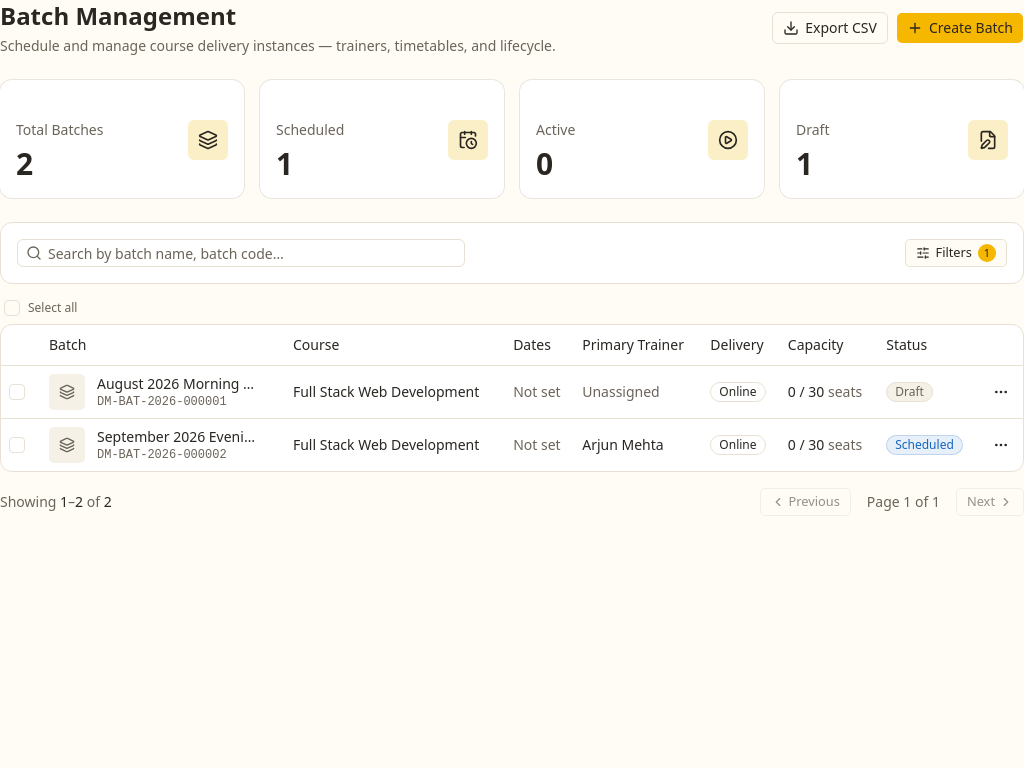
it: BatchesPage › cancels a scheduled batch via the row action menu after confirmation, then archives it
expect the text "September 2026 Evening Batch" is shown: met, box [97,426,257,446]
Step 1. Click the button named "actions for september 2026 evening batch" → (1001, 444), box [987,430,1015,458]
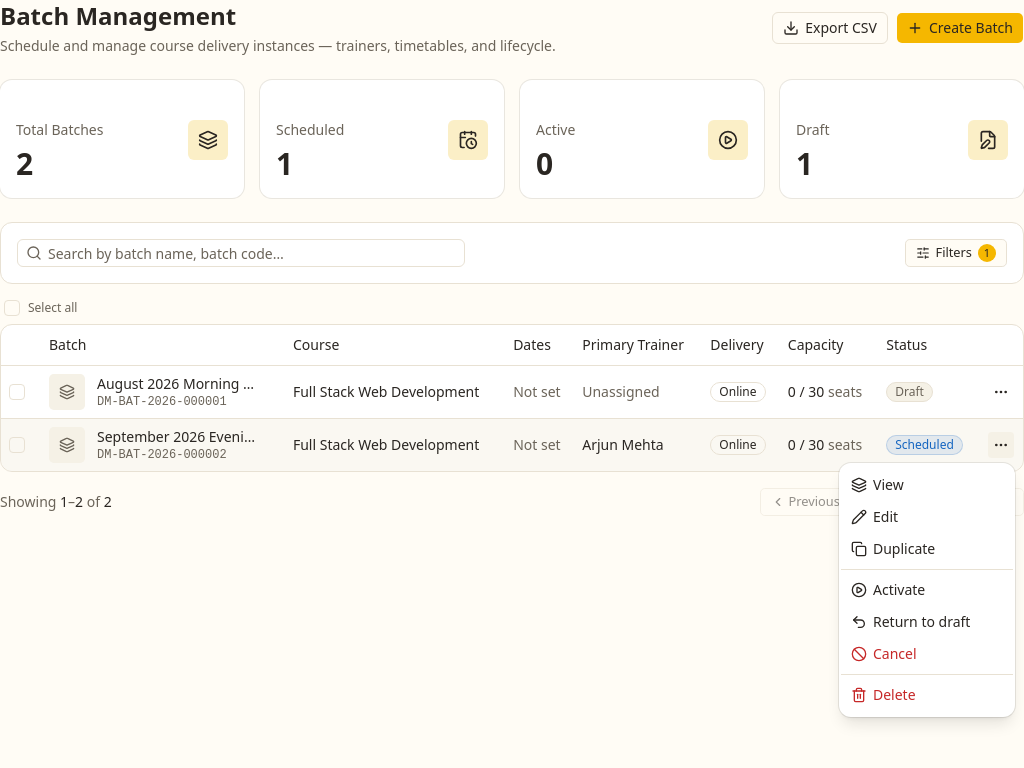
Step 2. Click the menu item "Cancel" → (884, 654), box [851,644,917,663]
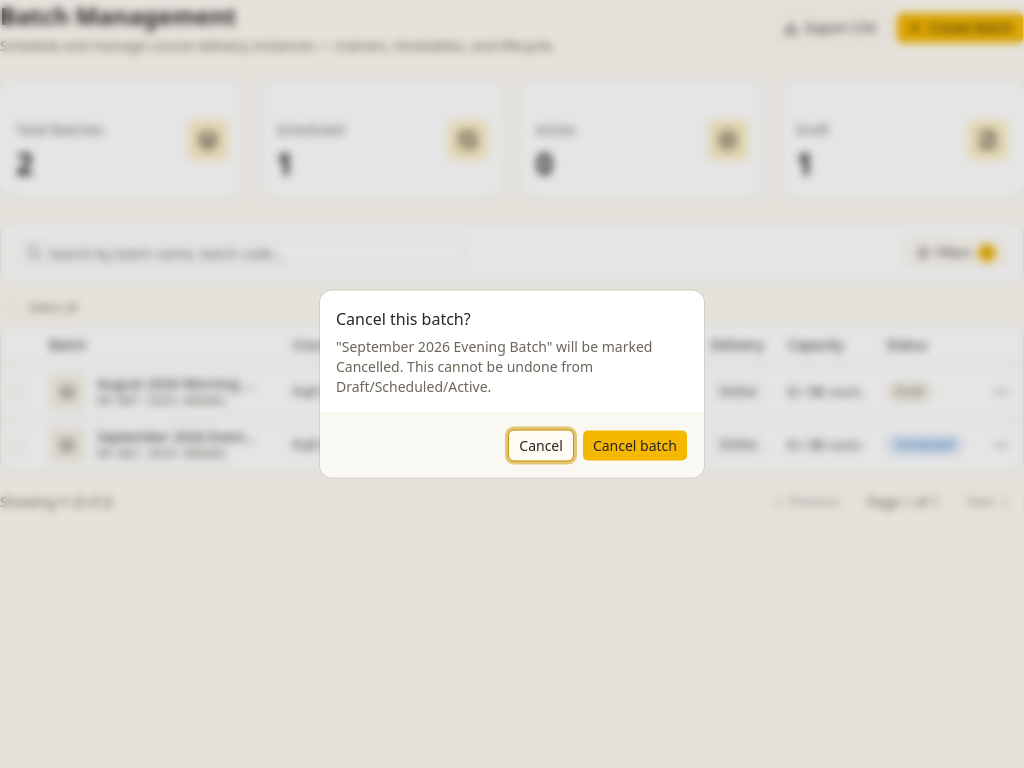
Step 3. Click the button "Cancel batch" → (635, 446), box [582,430,688,462]
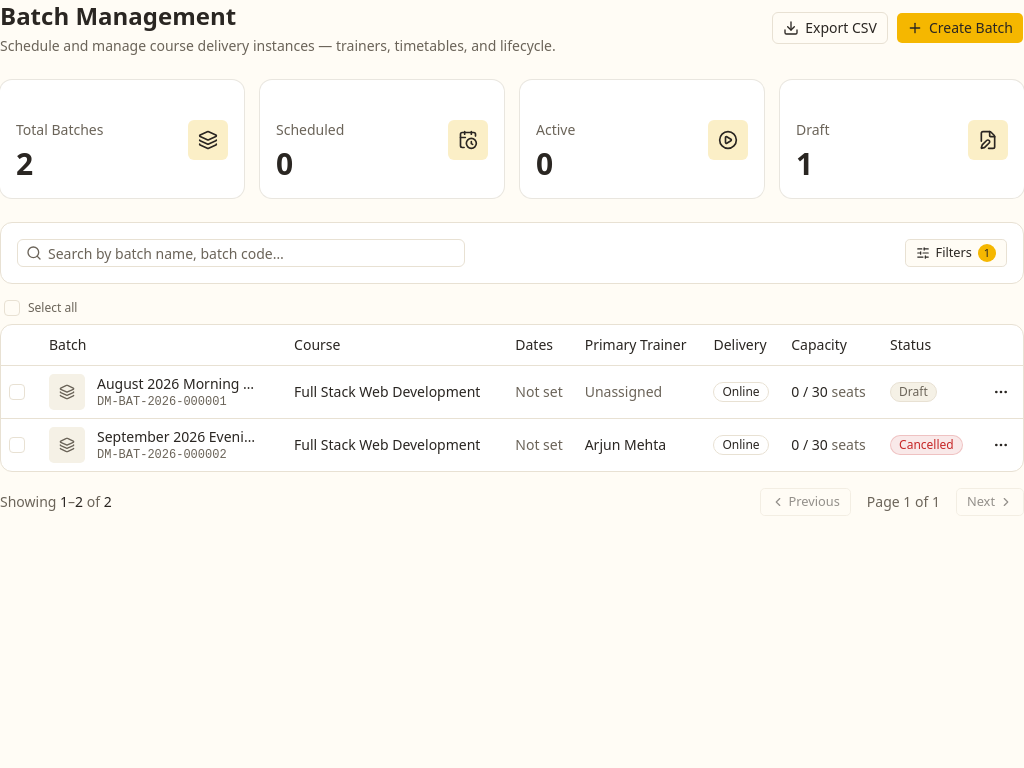
expect the text "Cancelled" is shown: met, box [890,435,963,455]
Step 4. Click the button named "actions for september 2026 evening batch" → (1001, 444), box [987,430,1015,458]
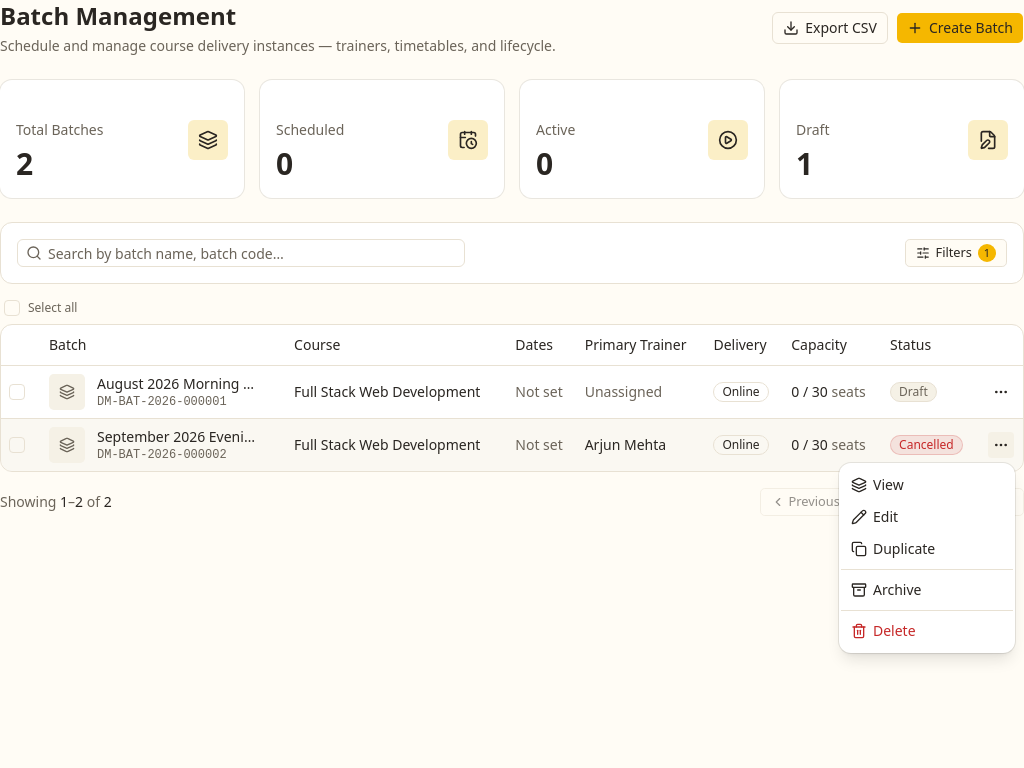
Step 5. Click the menu item "Archive" → (886, 590), box [851,580,922,599]
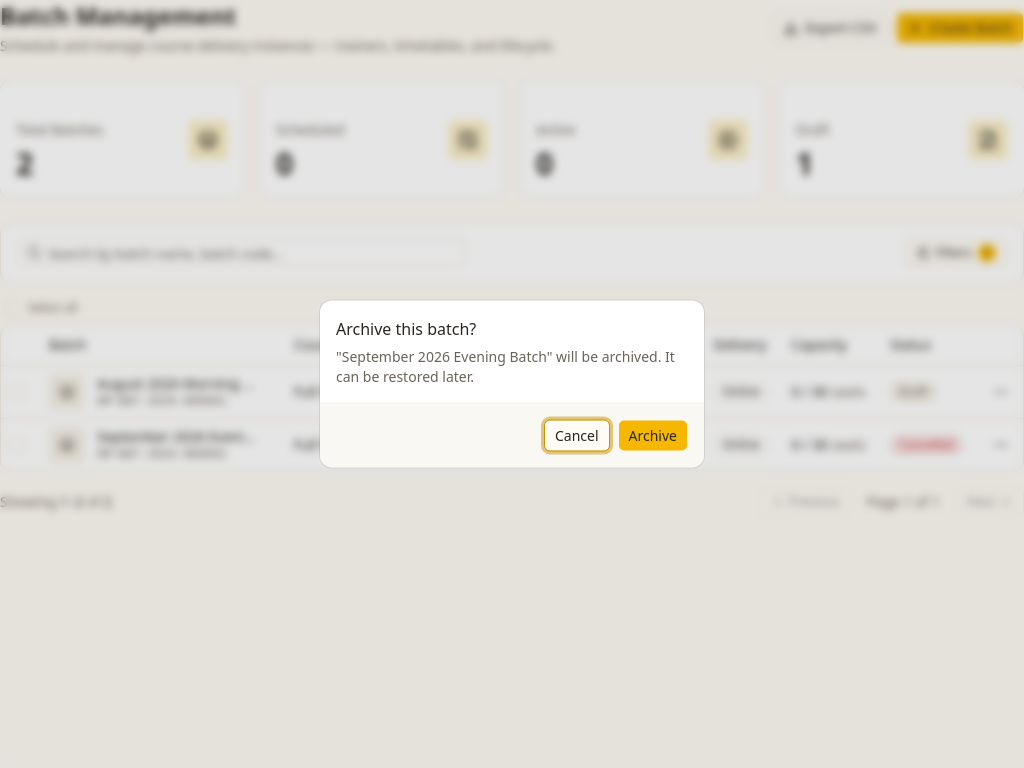
Step 6. Click the button "Archive" → (653, 436), box [618,420,688,452]
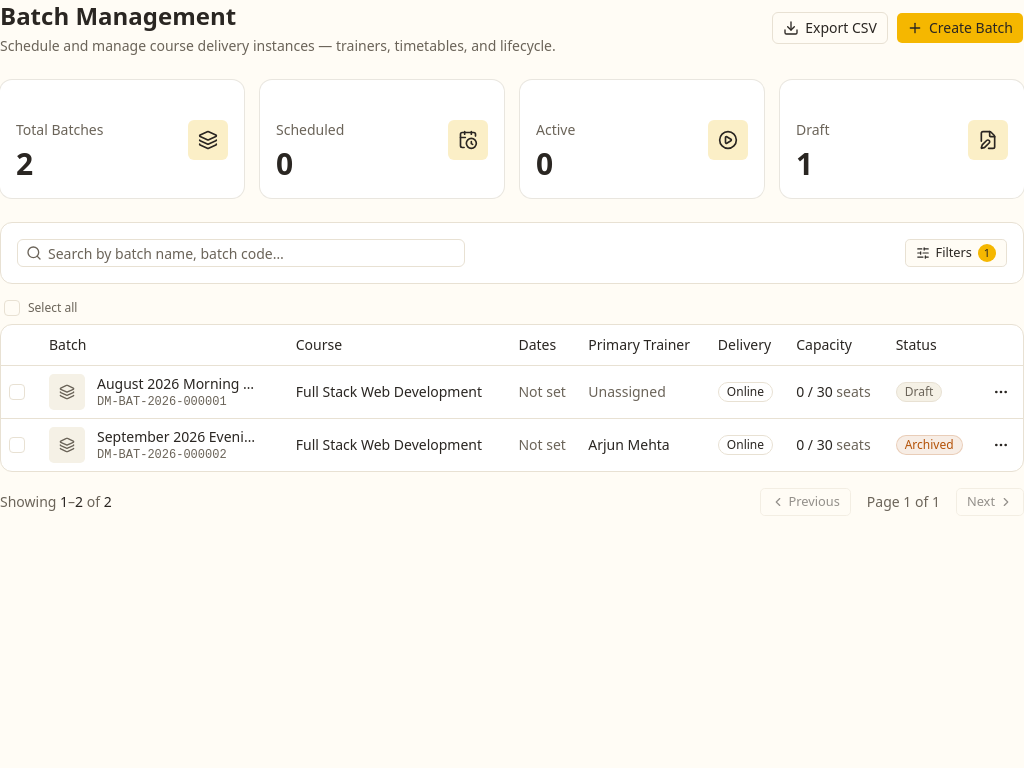
expect the text "Archived" is shown: met, box [896,435,963,455]
